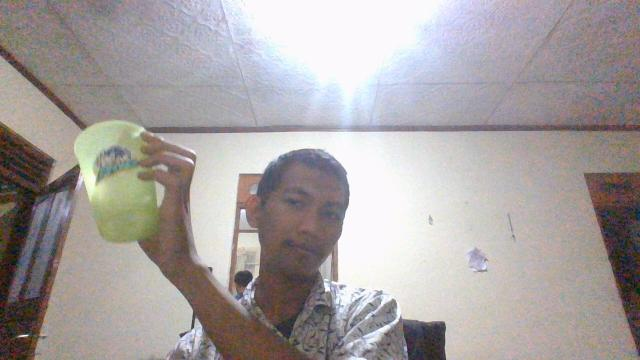botol-hijau: (72, 118, 162, 244)
